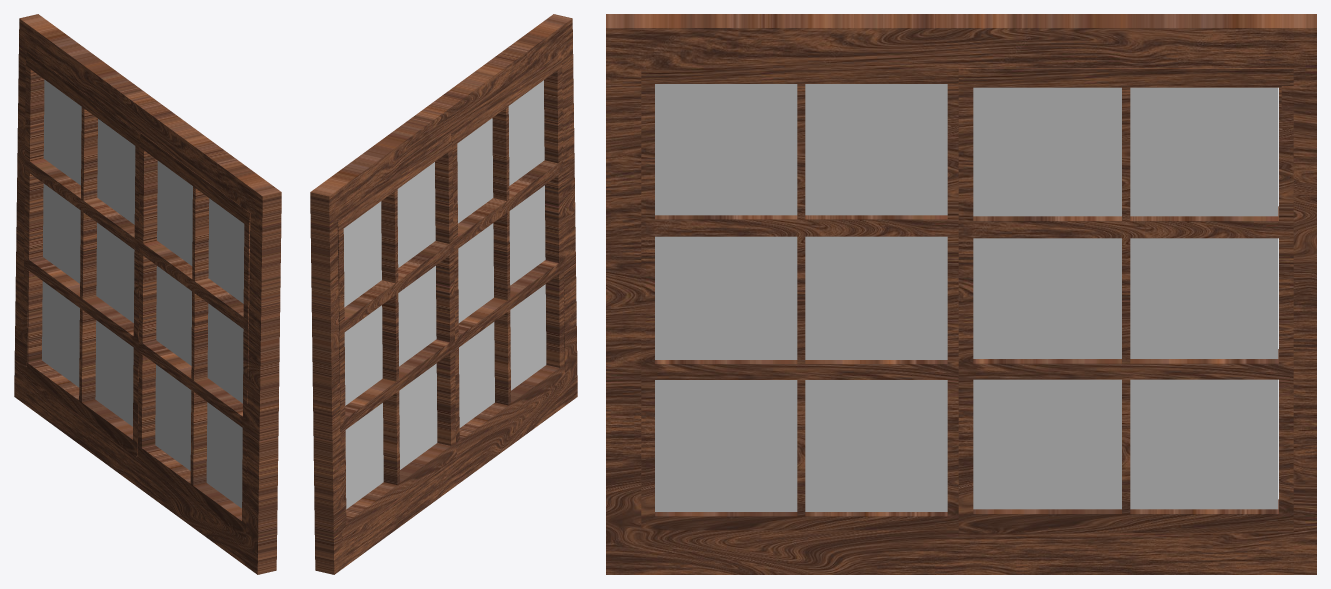
Rendered from SM_Jendela_biasa_01(Yoris).fbx.
3 views of the same model, side by side, from view 1: azimuth 30°, elevation 25°; view 2: azimuth 150°, elevation 25°; view 3: azimuth 270°, elevation 25° (orthographic). The views are drawn at different scales.
Visible parts, largest first — view 1: M_jendela_02, M_jendela_04, M_jendela_01, M_jendela_05, M_jendela_03; view 2: M_jendela_02, M_jendela_04, M_jendela_01, M_jendela_05, M_jendela_03; view 3: M_jendela_05, M_jendela_03, M_jendela_02, M_jendela_04, M_jendela_01.
Boxes of the visible parts, x1,y1,x2,y2 form: M_jendela_02: (14, 14, 281, 574); M_jendela_04: (22, 52, 140, 457); M_jendela_01: (136, 133, 250, 538); M_jendela_05: (42, 79, 135, 426); M_jendela_03: (155, 161, 244, 508); M_jendela_02: (310, 14, 577, 574); M_jendela_04: (337, 135, 456, 539); M_jendela_01: (451, 53, 565, 458); M_jendela_05: (343, 162, 437, 509); M_jendela_03: (457, 80, 546, 427); M_jendela_05: (973, 87, 1278, 509); M_jendela_03: (655, 84, 947, 511); M_jendela_02: (606, 14, 1316, 574); M_jendela_04: (958, 68, 1293, 533); M_jendela_01: (641, 70, 958, 530).
Size of the model in its own units: 5.2 by 75.91 by 88.75.
5 materials, 3 textured.
